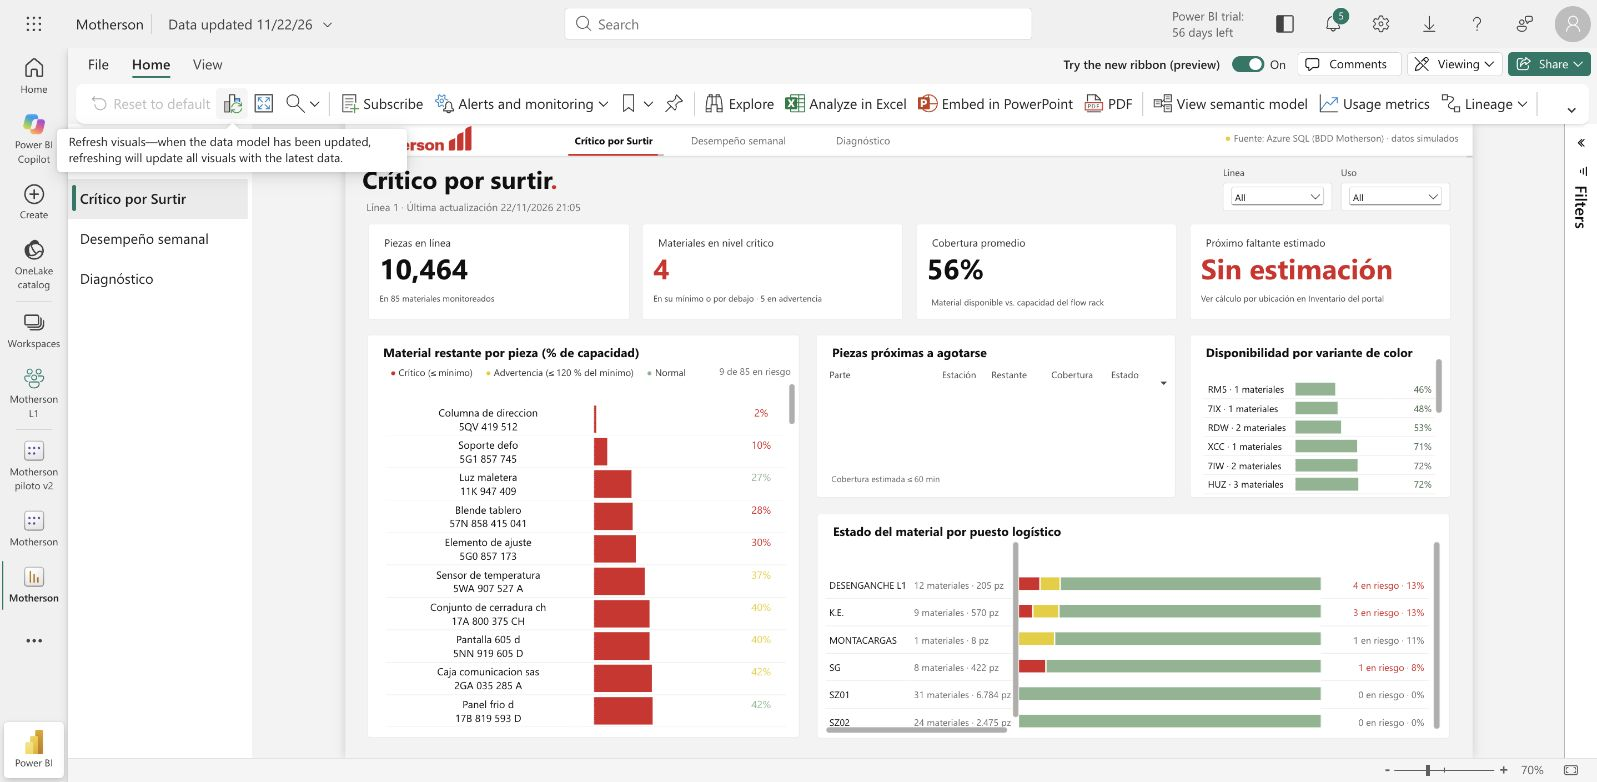

What the dashboard file says about the page in this screenshot:
{"tool":"powerbi","page":{"name":"Crítico por Surtir","canvas":[1600,900],"ordinal":0},"visuals":[{"type":"textbox","box":[0,0,1600,46],"z":100},{"type":"textbox","box":[0,46,1600,2],"z":200},{"type":"image","box":[21.9,3.1,157.5,35],"z":300},{"type":"pageNavigator","box":[296,3,525,42],"z":500},{"type":"textbox","box":[316,43,135,3],"z":600},{"type":"textbox","box":[1230,10,350,28],"z":700},{"type":"textbox","box":[24,56,740,52],"z":800},{"type":"multiRowCard","fields":{"Values":["UBICACION.Ultima Actualizacion Linea"]},"box":[30,108,700,26],"z":900},{"type":"textbox","box":[1246,60,155,24],"z":1000},{"type":"slicer","fields":{"Values":["ESTACION.Linea"]},"box":[1246,84,155,40],"z":1100},{"type":"textbox","box":[1413,60,155,24],"z":1200},{"type":"slicer","fields":{"Values":["MATERIAL.Tipo de uso"]},"box":[1413,84,155,40],"z":1300},{"type":"textbox","box":[32,142,371,136],"z":1900},{"type":"multiRowCard","fields":{"Values":["UBICACION.Piezas En Linea"]},"box":[48,178,338,64],"z":2000},{"type":"multiRowCard","fields":{"Values":["UBICACION.Piezas En Linea Nota"]},"box":[48,240,338,38],"z":2100},{"type":"textbox","box":[421,142,370,136],"z":2200},{"type":"multiRowCard","fields":{"Values":["UBICACION.Materiales Nivel Critico"]},"box":[437,178,338,64],"z":2300},{"type":"multiRowCard","fields":{"Values":["UBICACION.Critico Nota"]},"box":[437,240,338,38],"z":2400},{"type":"textbox","box":[810,142,370,136],"z":2500},{"type":"multiRowCard","fields":{"Values":["UBICACION.Cobertura Promedio Turno"]},"box":[826,178,338,64],"z":2600},{"type":"textbox","box":[826,240,338,38],"z":2700},{"type":"textbox","box":[1199,142,370,136],"z":2800},{"type":"multiRowCard","fields":{"Values":["UBICACION.Proximo Faltante Minutos"]},"box":[1215,178,338,64],"z":2900},{"type":"multiRowCard","fields":{"Values":["UBICACION.Proximo Faltante Detalle"]},"box":[1215,240,338,38],"z":3000},{"type":"textbox","box":[31.7,300,613.3,571.7],"z":3100},{"type":"multiRowCard","fields":{"Values":["UBICACION.Subtitulo En Riesgo"]},"box":[531.4,342.2,106.7,28.9],"z":3200},{"type":"textbox","box":[63.6,343.3,453.3,25.6],"z":3300},{"type":"tableEx","fields":{"Values":["UBICACION.Pieza","UBICACION.% Restante Barra","UBICACION.% Restante"]},"box":[56.7,368.3,581.7,490],"z":3400},{"type":"textbox","box":[669,300,510,231],"z":3500},{"type":"tableEx","fields":{"Values":["UBICACION.Pieza","UBICACION.nombre_estacion","UBICACION.Restante Texto","UBICACION.Cobertura Texto","UBICACION.Nivel","UBICACION.Cobertura Minutos"]},"box":[680.8,340,497.5,150],"z":3600},{"type":"textbox","box":[683.3,494,494,34],"z":3700},{"type":"textbox","box":[669.5,553,898,319],"z":3800},{"type":"tableEx","fields":{"Values":["UBICACION.Puesto","UBICACION.Puesto Detalle","UBICACION.Pct En Riesgo"]},"box":[680.7,592.5,275,271.5],"z":4000},{"type":"hundredPercentStackedBarChart","fields":{"Category":["UBICACION.Puesto"],"Y":["UBICACION.Materiales Nivel Critico","UBICACION.Materiales Nivel Bajo","UBICACION.Materiales Nivel Normal"]},"box":[956.1,635.4,445,222.5],"z":4100},{"type":"tableEx","fields":{"Values":["UBICACION.Puesto","UBICACION.Riesgo Texto","UBICACION.Pct En Riesgo"]},"box":[1383.1,593.3,170.4,270.6],"z":4200},{"type":"textbox","box":[1199.2,300,370,231],"z":4300},{"type":"tableEx","fields":{"Values":["UBICACION.Color","UBICACION.Color Detalle","UBICACION.% Restante Barra","UBICACION.% Restante"]},"box":[1215.8,333.3,340.8,192],"z":4500}]}

Visuals, with their boxes on the page's 1600x900 design canvas (x1, y1, x2, y2). These are canvas units, not pixel positions in the 1597x782 screenshot, which may show the page scaled, cropped or inside an application window:
textbox: pyautogui.locateOnScreen(0, 0, 1600, 46)
textbox: pyautogui.locateOnScreen(0, 46, 1600, 48)
image: pyautogui.locateOnScreen(22, 3, 179, 38)
pageNavigator: pyautogui.locateOnScreen(296, 3, 821, 45)
textbox: pyautogui.locateOnScreen(316, 43, 451, 46)
textbox: pyautogui.locateOnScreen(1230, 10, 1580, 38)
textbox: pyautogui.locateOnScreen(24, 56, 764, 108)
multiRowCard - UBICACION.Ultima Actualizacion Linea: pyautogui.locateOnScreen(30, 108, 730, 134)
textbox: pyautogui.locateOnScreen(1246, 60, 1401, 84)
slicer - ESTACION.Linea: pyautogui.locateOnScreen(1246, 84, 1401, 124)
textbox: pyautogui.locateOnScreen(1413, 60, 1568, 84)
slicer - MATERIAL.Tipo de uso: pyautogui.locateOnScreen(1413, 84, 1568, 124)
textbox: pyautogui.locateOnScreen(32, 142, 403, 278)
multiRowCard - UBICACION.Piezas En Linea: pyautogui.locateOnScreen(48, 178, 386, 242)
multiRowCard - UBICACION.Piezas En Linea Nota: pyautogui.locateOnScreen(48, 240, 386, 278)
textbox: pyautogui.locateOnScreen(421, 142, 791, 278)
multiRowCard - UBICACION.Materiales Nivel Critico: pyautogui.locateOnScreen(437, 178, 775, 242)
multiRowCard - UBICACION.Critico Nota: pyautogui.locateOnScreen(437, 240, 775, 278)
textbox: pyautogui.locateOnScreen(810, 142, 1180, 278)
multiRowCard - UBICACION.Cobertura Promedio Turno: pyautogui.locateOnScreen(826, 178, 1164, 242)
textbox: pyautogui.locateOnScreen(826, 240, 1164, 278)
textbox: pyautogui.locateOnScreen(1199, 142, 1569, 278)
multiRowCard - UBICACION.Proximo Faltante Minutos: pyautogui.locateOnScreen(1215, 178, 1553, 242)
multiRowCard - UBICACION.Proximo Faltante Detalle: pyautogui.locateOnScreen(1215, 240, 1553, 278)
textbox: pyautogui.locateOnScreen(32, 300, 645, 872)
multiRowCard - UBICACION.Subtitulo En Riesgo: pyautogui.locateOnScreen(531, 342, 638, 371)
textbox: pyautogui.locateOnScreen(64, 343, 517, 369)
tableEx - UBICACION.Pieza x UBICACION.% Restante Barra: pyautogui.locateOnScreen(57, 368, 638, 858)
textbox: pyautogui.locateOnScreen(669, 300, 1179, 531)
tableEx - UBICACION.Pieza x UBICACION.nombre_estacion: pyautogui.locateOnScreen(681, 340, 1178, 490)
textbox: pyautogui.locateOnScreen(683, 494, 1177, 528)
textbox: pyautogui.locateOnScreen(670, 553, 1568, 872)
tableEx - UBICACION.Puesto x UBICACION.Puesto Detalle: pyautogui.locateOnScreen(681, 592, 956, 864)
hundredPercentStackedBarChart - UBICACION.Puesto x UBICACION.Materiales Nivel Critico: pyautogui.locateOnScreen(956, 635, 1401, 858)
tableEx - UBICACION.Puesto x UBICACION.Riesgo Texto: pyautogui.locateOnScreen(1383, 593, 1554, 864)
textbox: pyautogui.locateOnScreen(1199, 300, 1569, 531)
tableEx - UBICACION.Color x UBICACION.Color Detalle: pyautogui.locateOnScreen(1216, 333, 1557, 525)
